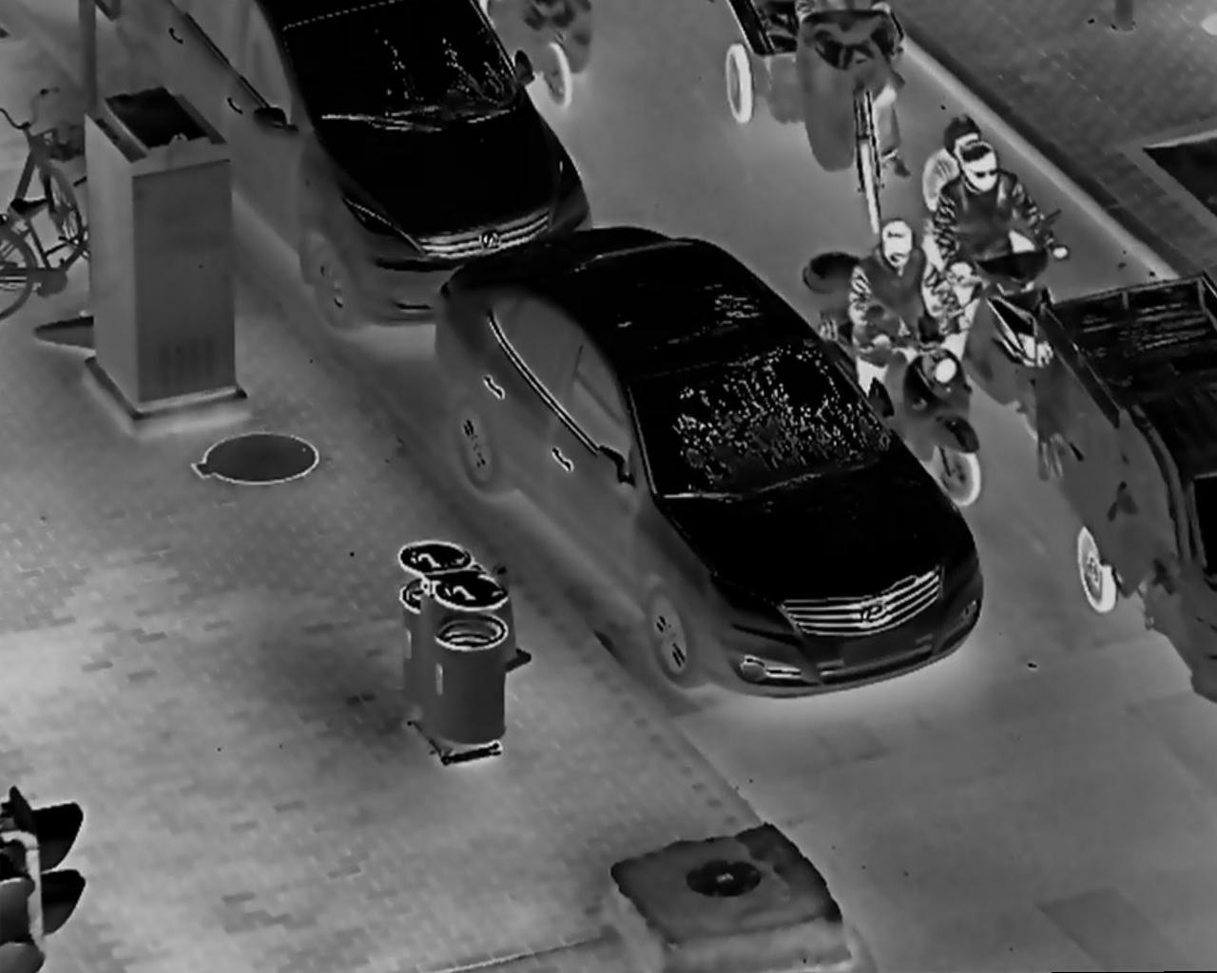person: (933, 142, 1070, 369), (843, 219, 973, 429), (915, 115, 1006, 340)
